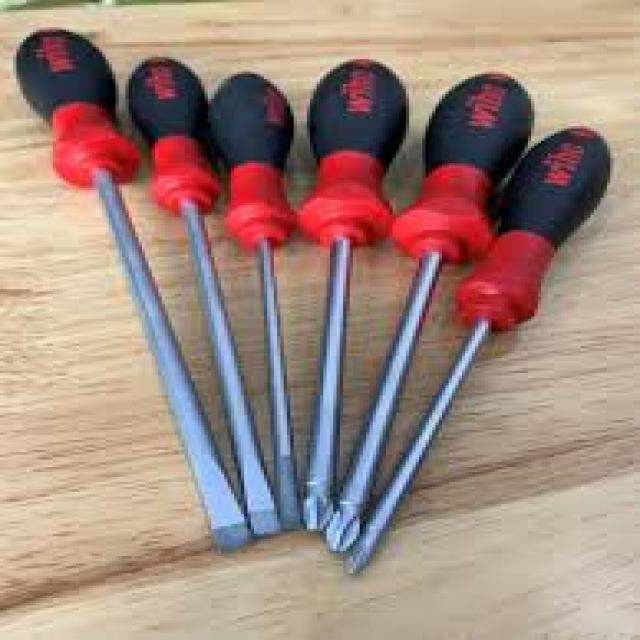screwdriver: (9, 20, 258, 552), (346, 121, 617, 578), (313, 67, 538, 566), (125, 46, 284, 536), (302, 49, 411, 542), (210, 68, 316, 535)
